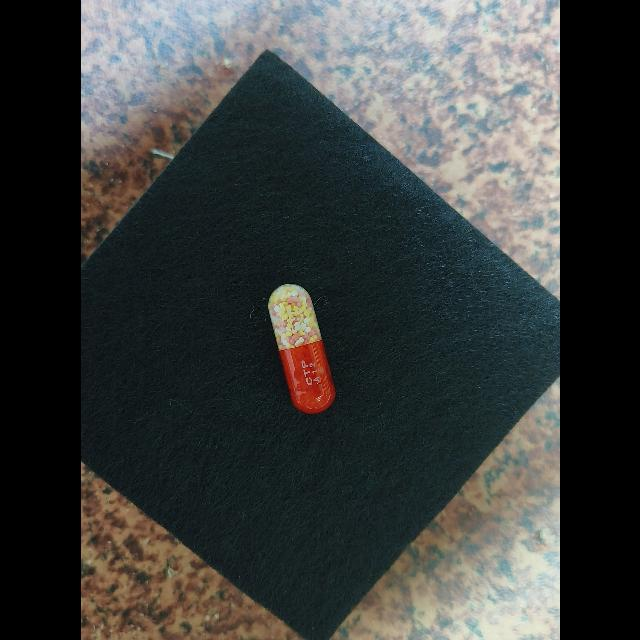Intact Capsule: (267, 284, 335, 414)
